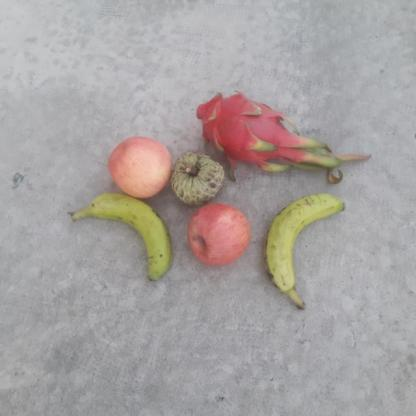annona: (172, 146, 227, 206)
apple: (104, 133, 173, 200), (188, 199, 253, 265)
banana: (65, 190, 173, 280), (263, 192, 347, 298)
pitaya: (194, 95, 292, 164)
